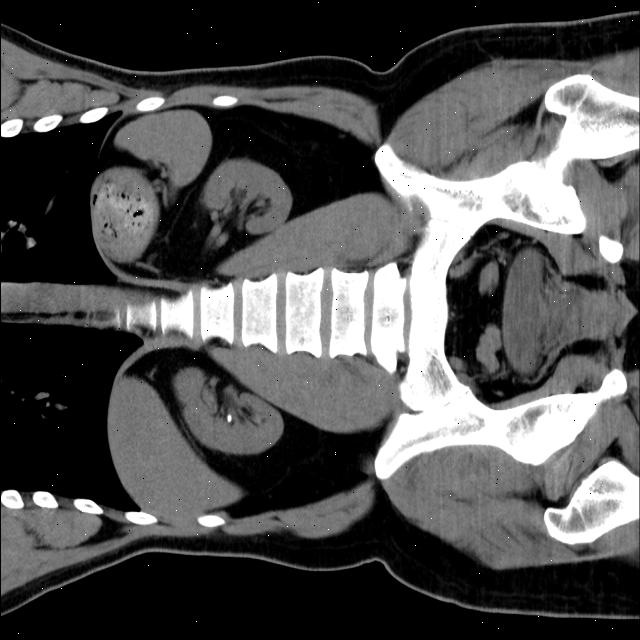kidneystone: (220, 412, 234, 423)
